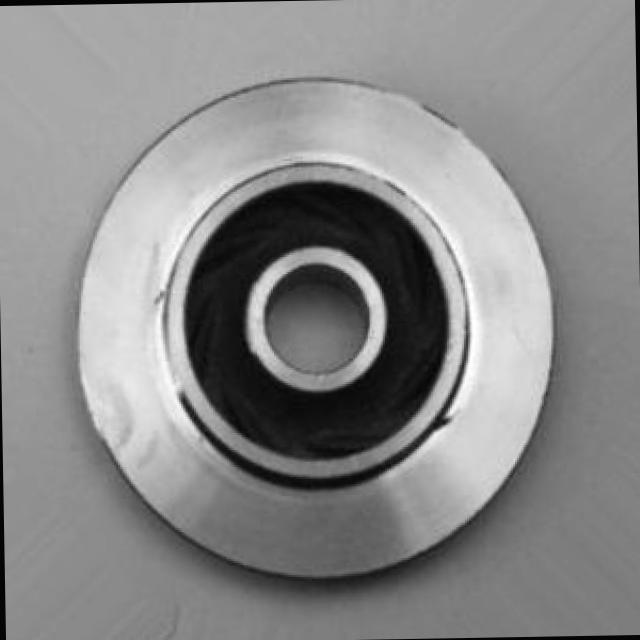Defect: (423, 412, 462, 436)
